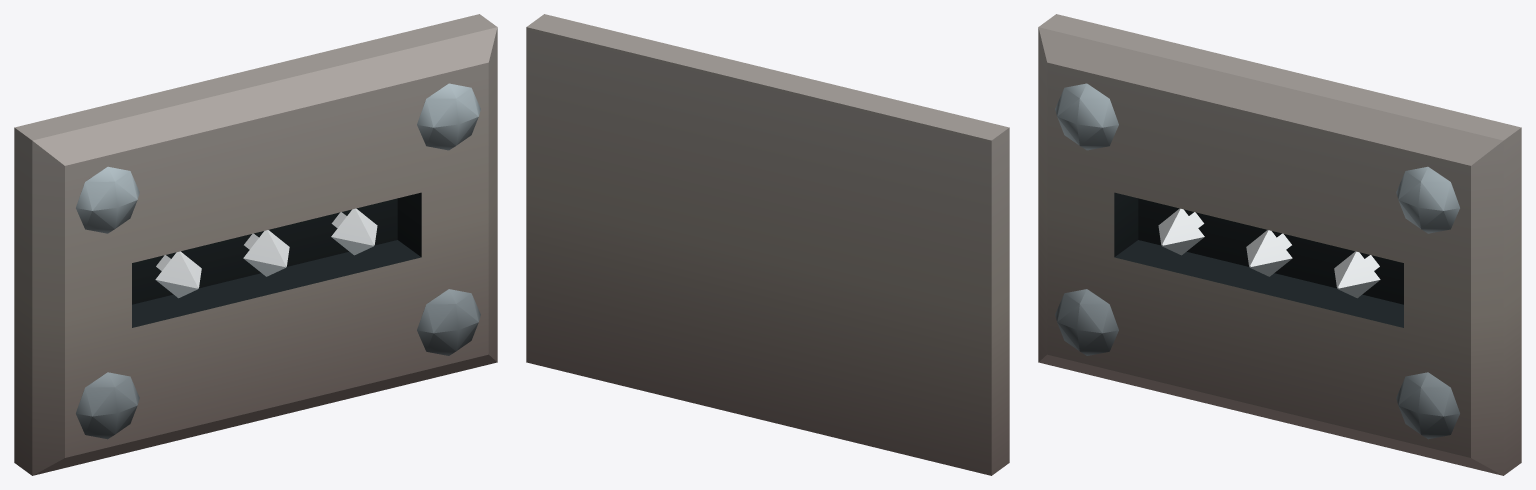
Rendered from dart_slit.glb.
3 views of the same model, side by side, from view 1: azimuth 30°, elevation 25°; view 2: azimuth 150°, elevation 25°; view 3: azimuth 330°, elevation 25° (orthographic).
Parts seen in each view (by area): view 1: dart_slit; view 2: dart_slit; view 3: dart_slit.
Part boxes in pixels (left/top/right/bottom): dart_slit: left=14, top=14, right=497, bottom=475; dart_slit: left=526, top=14, right=1009, bottom=475; dart_slit: left=1038, top=14, right=1521, bottom=475.
Bounding box in the file's own units: 0.9 × 0.62 × 0.1391.
Materials: 1 (1 with a texture image).
